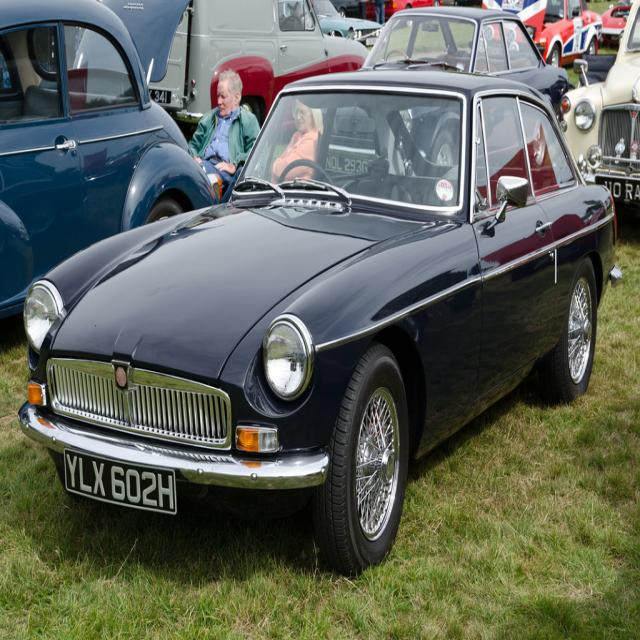car: (17, 56, 624, 578)
